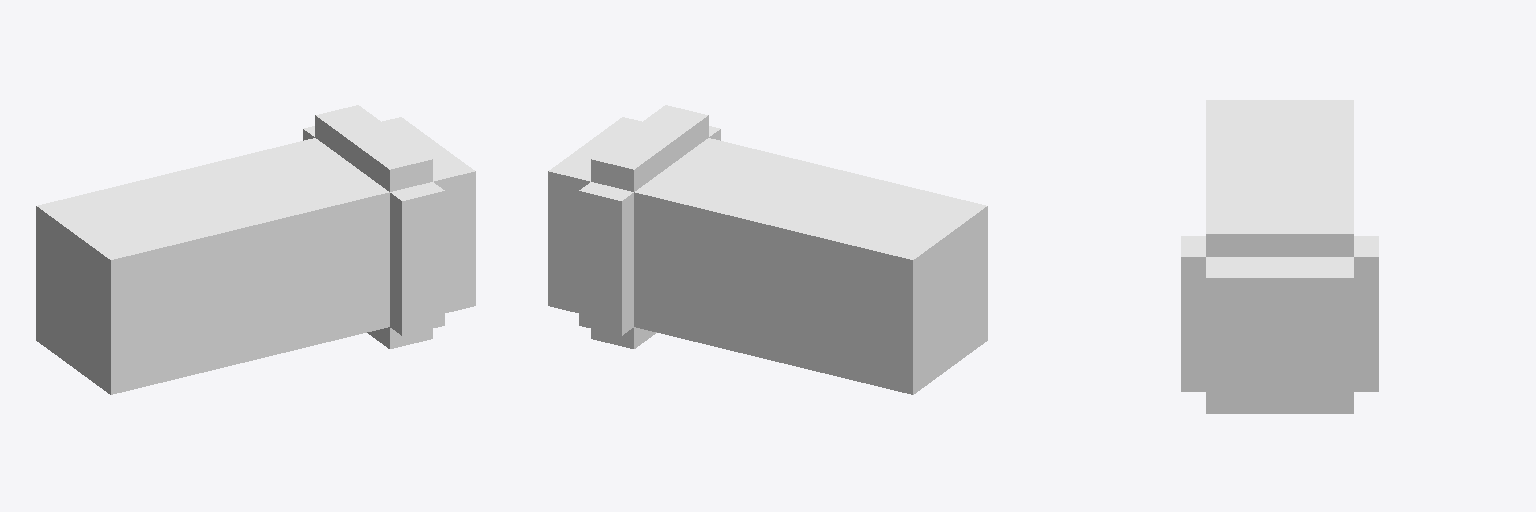
The model's file is Right_Arm.obj.
3 views of the same model, side by side, from view 1: azimuth 30°, elevation 25°; view 2: azimuth 150°, elevation 25°; view 3: azimuth 270°, elevation 25° (orthographic).
Parts seen in each view (by area): view 1: object 1; view 2: object 1; view 3: object 1.
Part boxes in pixels (x1,y1,x2,y2): object 1: (36,105,475,394); object 1: (548,105,987,394); object 1: (1181,100,1378,413).
Bounding box in the file's own units: 1.7 × 0.8 × 0.8.